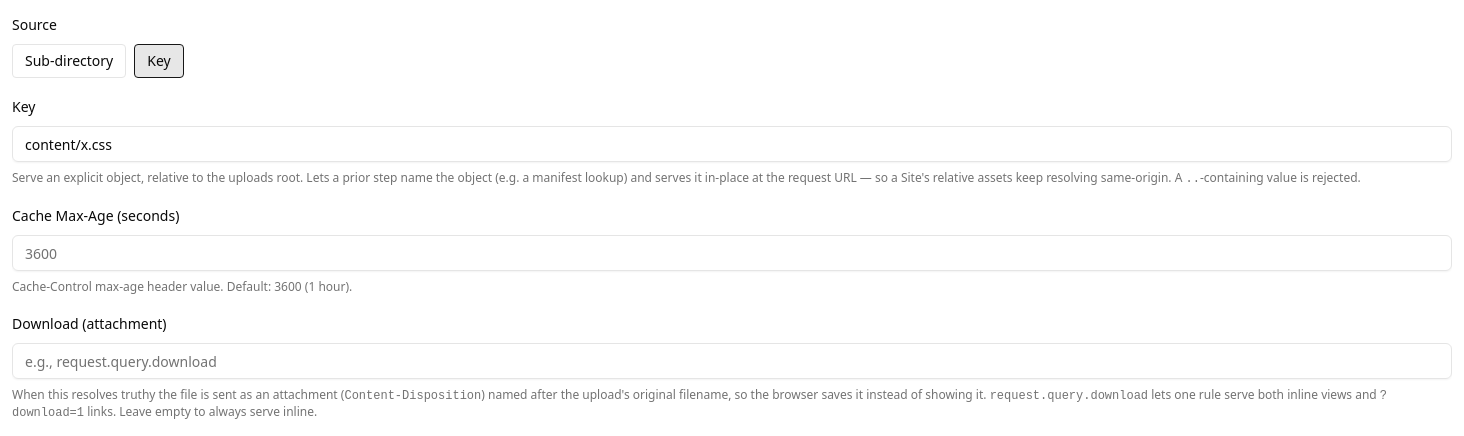
Test: FileServeHandlerConfig › can switch key → sub-directory → key and back to the key field
Expected: the field showing "content/x.css" is shown, left=12, top=126, right=1452, bottom=162
// Key → Sub-directory (clears the key).
Click the button "Sub-directory": (69, 61) left=12, top=44, right=126, bottom=78
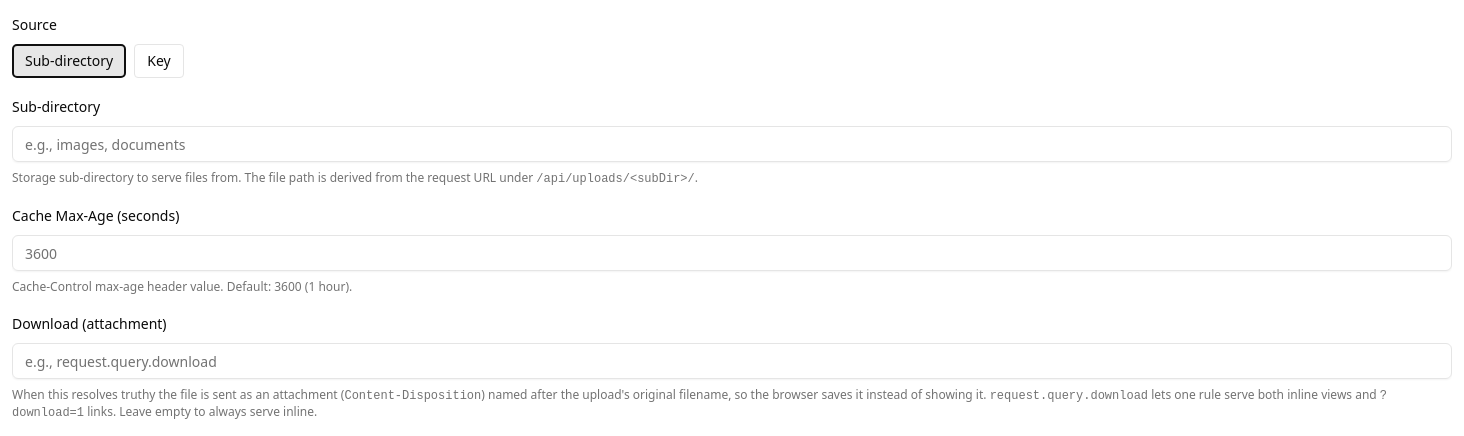
Expected: the field with placeholder "e.g., images, documents" is shown, left=12, top=126, right=1452, bottom=162
// Sub-directory → Key: the key input must come back even though key is empty.
Click the button "Key": (159, 61) left=134, top=44, right=184, bottom=78
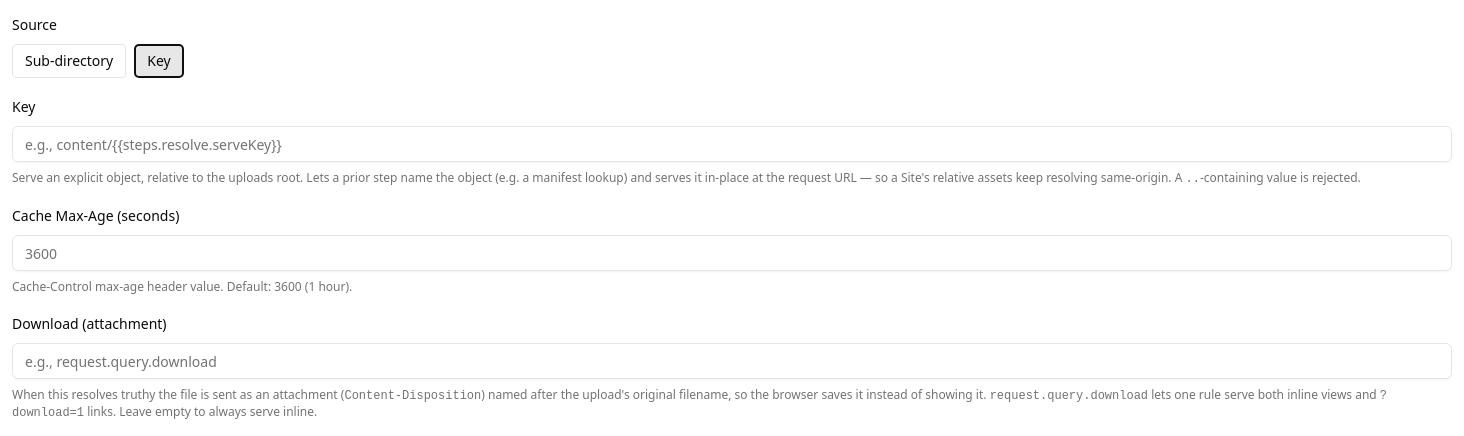
Expected: the field with placeholder "e.g., images, documents" is not shown
Expected: the field with placeholder "e.g., content/{{steps.resolve.serveKey}}" is shown, left=12, top=126, right=1452, bottom=162
